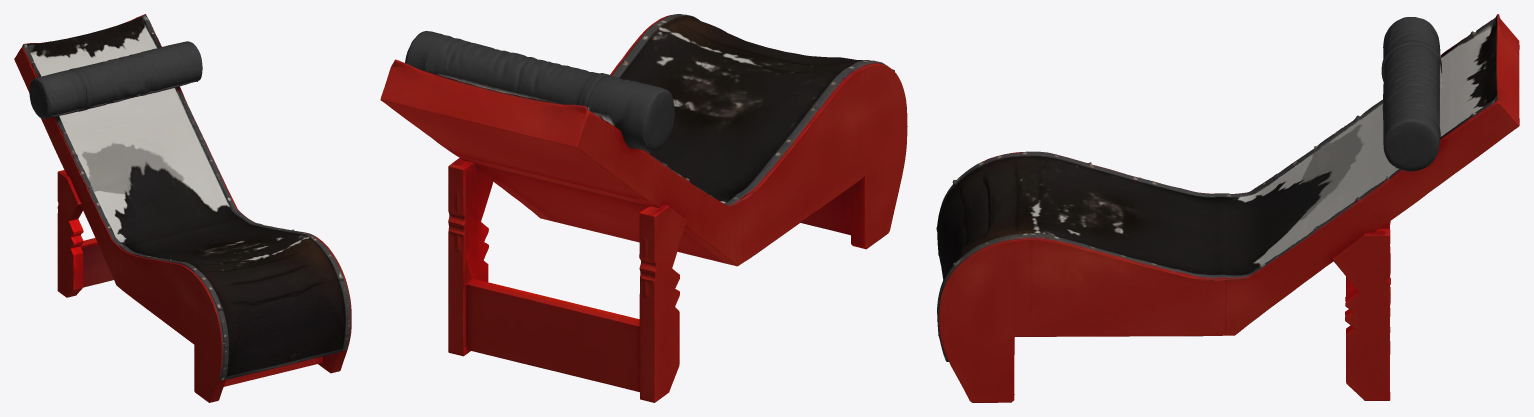
3 renders of one model, left to right at view 1: azimuth 30°, elevation 25°; view 2: azimuth 150°, elevation 25°; view 3: azimuth 270°, elevation 25°, orthographic. The views are drawn at different scales.
Visible parts, largest first — view 1: tripo_node_324cd0de-b4a5-4773-b164-5e8e496e9524; view 2: tripo_node_324cd0de-b4a5-4773-b164-5e8e496e9524; view 3: tripo_node_324cd0de-b4a5-4773-b164-5e8e496e9524.
Part boxes in pixels (x1,y1,x2,y2): tripo_node_324cd0de-b4a5-4773-b164-5e8e496e9524: (14, 14, 351, 402); tripo_node_324cd0de-b4a5-4773-b164-5e8e496e9524: (380, 14, 907, 402); tripo_node_324cd0de-b4a5-4773-b164-5e8e496e9524: (936, 14, 1519, 402).
Size of the model in its own units: 0.4323 by 0.5755 by 1.
Materials: 1 (1 with a texture image).
